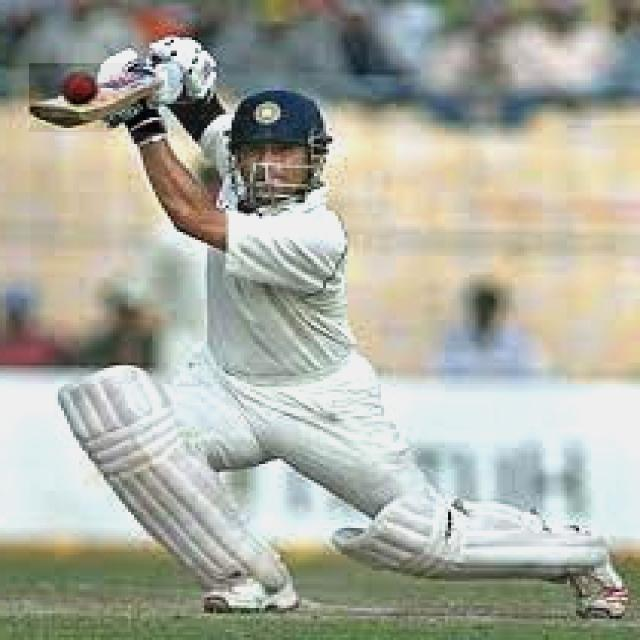bat: (26, 63, 172, 138)
toe: (41, 104, 99, 133)
